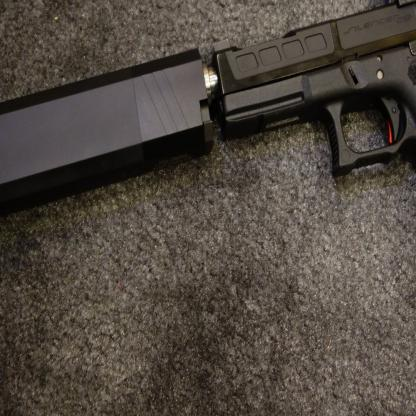gun: (0, 0, 416, 379)
